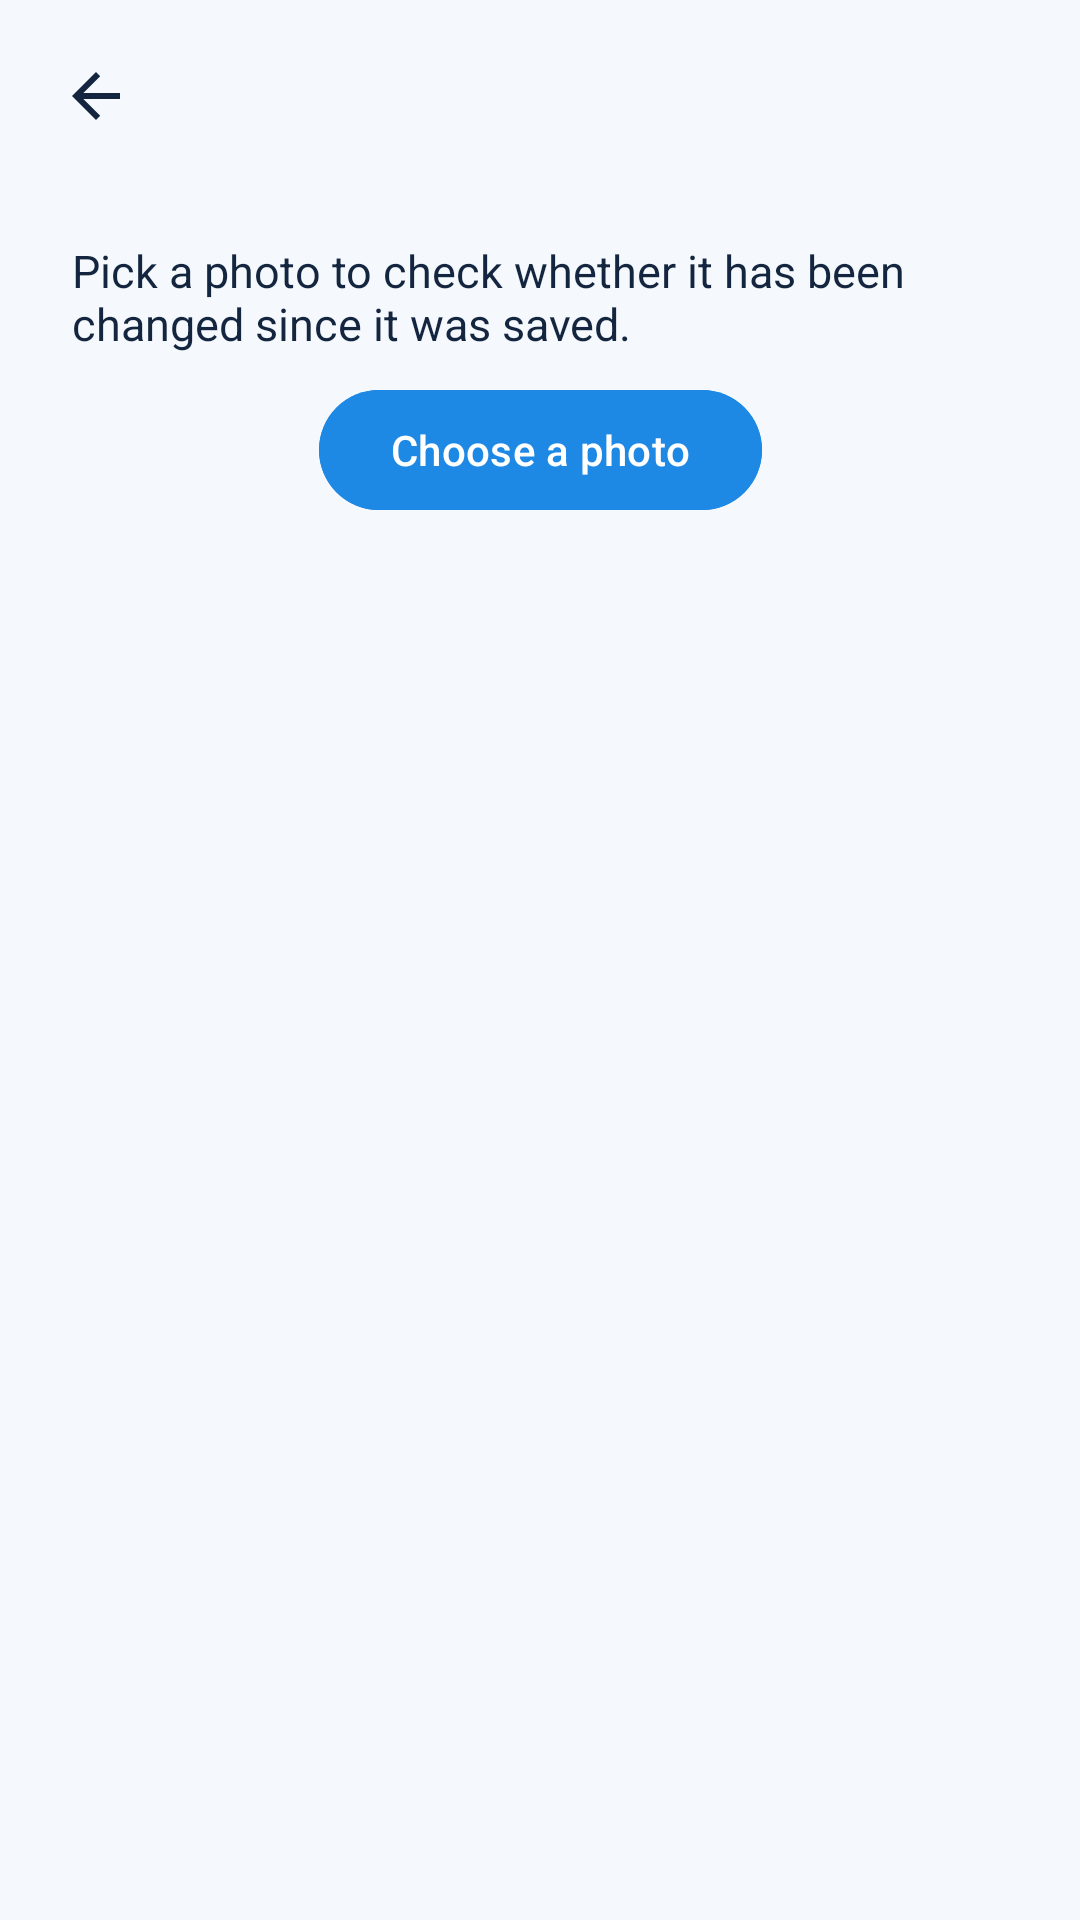

Icon bounding boxes for this 1080px×1920px phone screenshot, format (x1=x1, y1=y1, x2=x2, y2=y2):
Back: (x1=72, y1=72, x2=120, y2=120)
